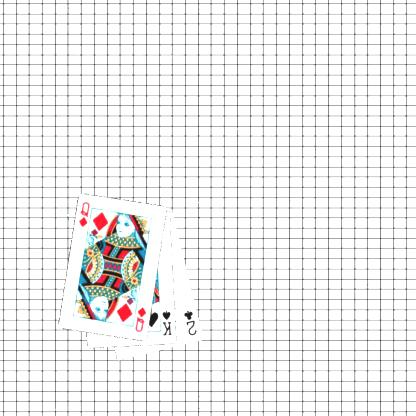2C: (182, 308, 198, 337)
KS: (160, 307, 173, 337)
QD: (132, 304, 148, 334), (76, 199, 91, 228)
